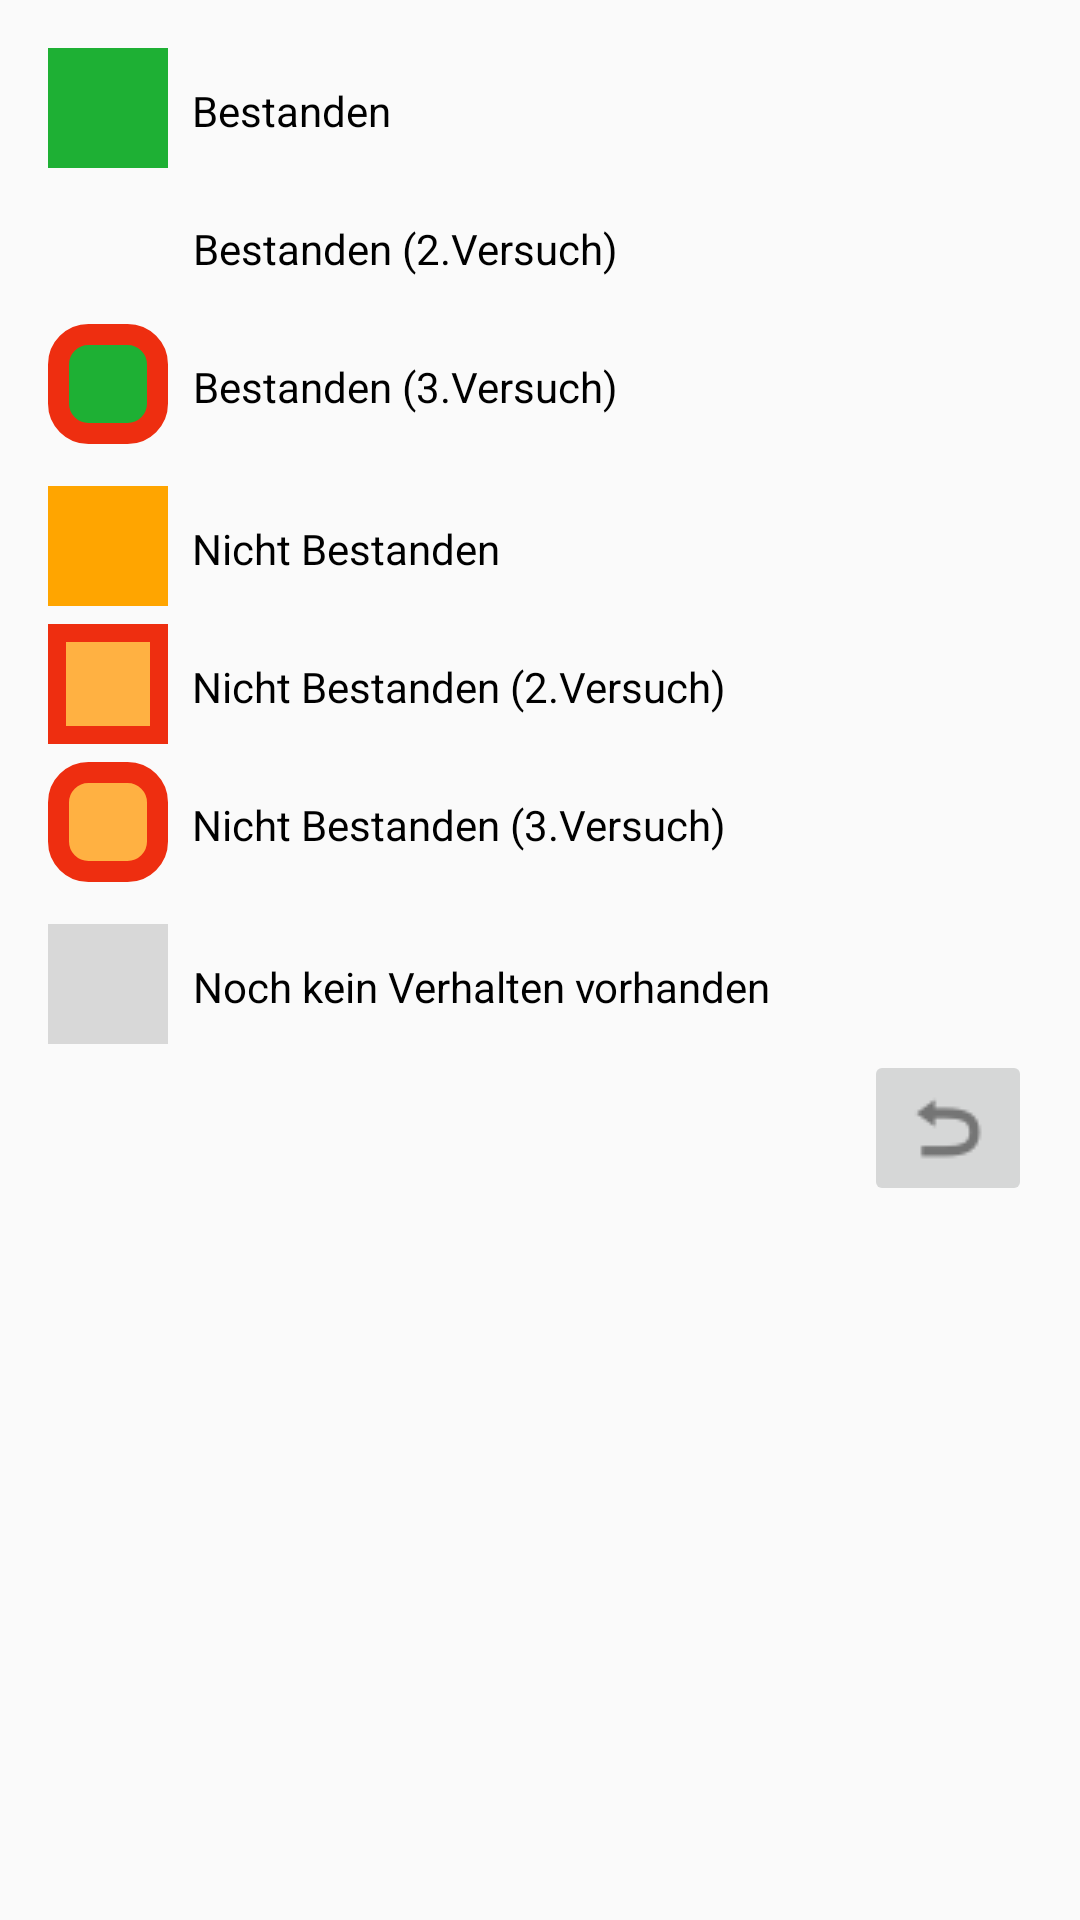

Named icons in this screenshot (1080 x 1920) and their centers, point (x, y):
back: point (948, 1128)
